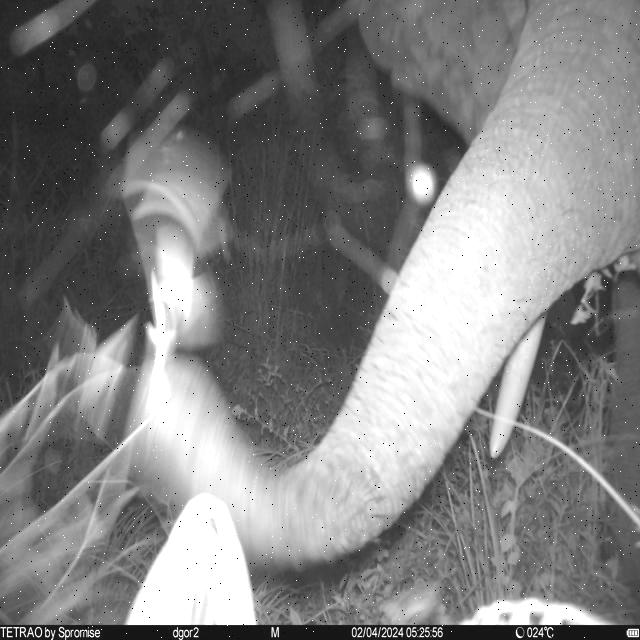ear: (358, 0, 530, 145)
elephant: (128, 0, 640, 573)
tusk: (489, 311, 547, 461)
